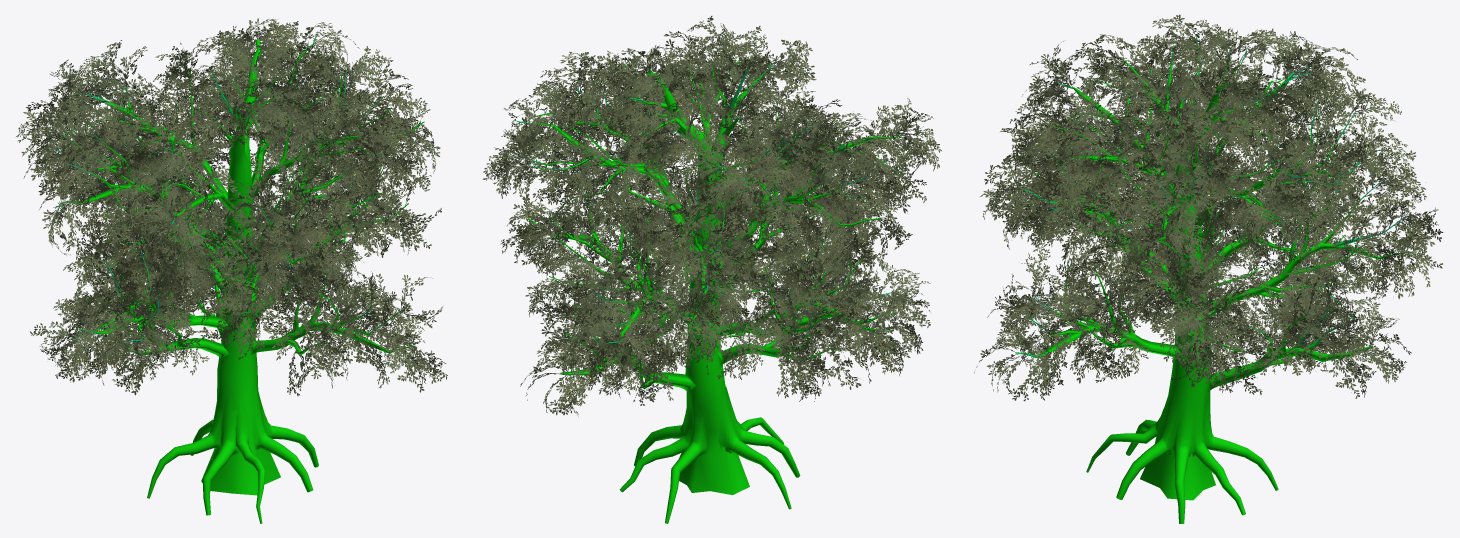
Rendered from SM_Oak.fbx.
The picture shows the model from 3 angles, left to right: view 1: azimuth 30°, elevation 25°; view 2: azimuth 150°, elevation 25°; view 3: azimuth 270°, elevation 25°; orthographic projection.
Parts seen in each view (by area): view 1: Oak01_LOD0; view 2: Oak01_LOD0; view 3: Oak01_LOD0.
Part boxes in pixels (<box>): Oak01_LOD0: <box>16,18,447,523</box>; Oak01_LOD0: <box>482,16,941,523</box>; Oak01_LOD0: <box>974,14,1443,523</box>.
Size of the model in its own units: 2309 by 2331 by 2424.
